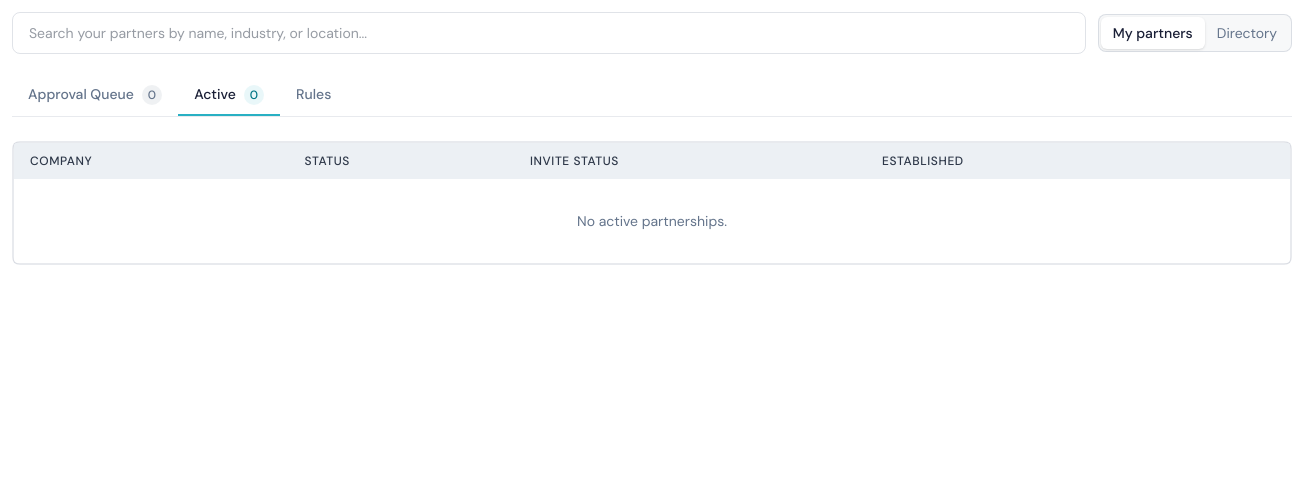
it: PartnersPanel — approve as trading partner (SEC-web-account-1-05) › approves, then proposes the trading pair on the connection the response names, then reloads
Click the tab "Approval Queue0": coordinates (95, 95) [12,74,178,116]
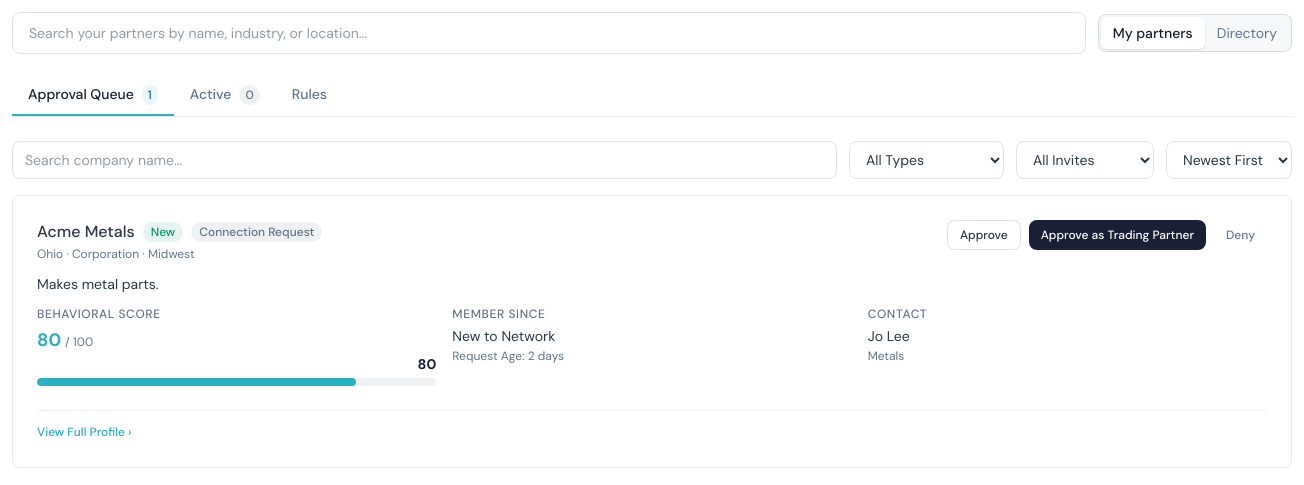
Expected: the text "Acme Metals" is shown, [37,220,135,244]
Click the button "Approve as Trading Partner": coordinates (1117, 235) [1029,220,1206,250]
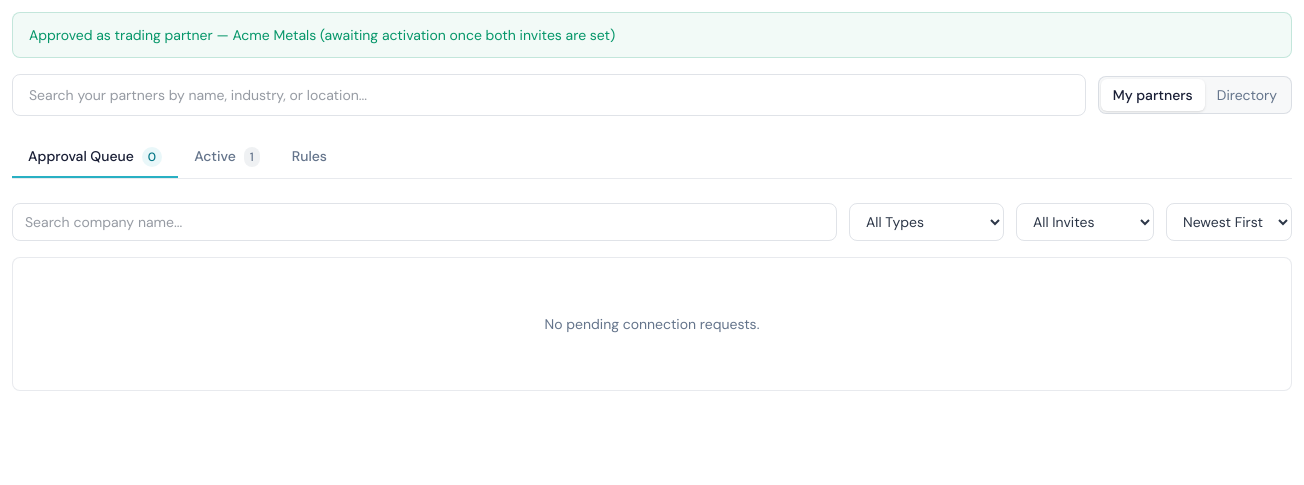
Expected: the text "Approved as trading partner" is shown, [29,26,615,44]
Click the tab "Active1": coordinates (227, 157) [178,136,276,178]
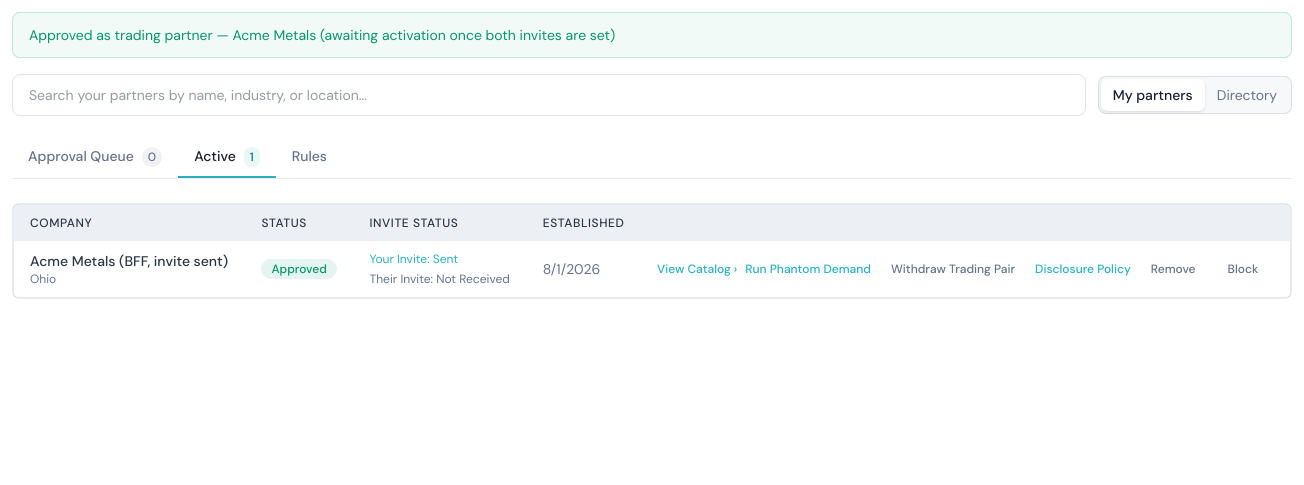
Expected: the text "Acme Metals (BFF, invite sent)" is shown, [30,251,229,271]
